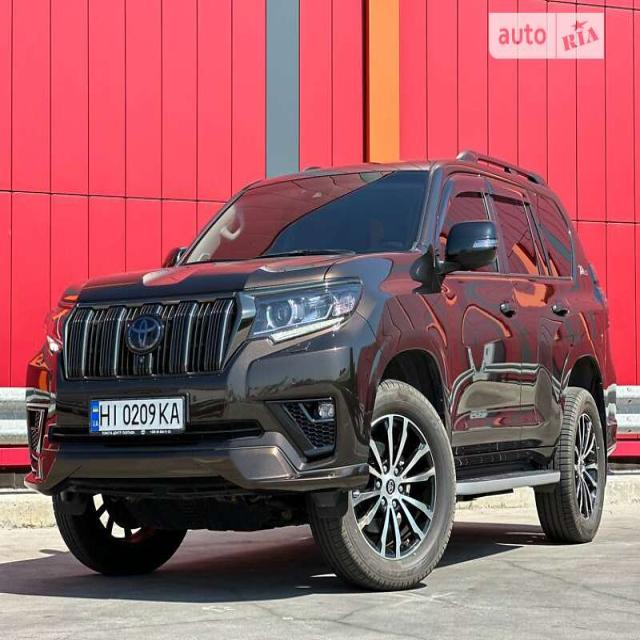plate: (80, 392, 191, 441)
